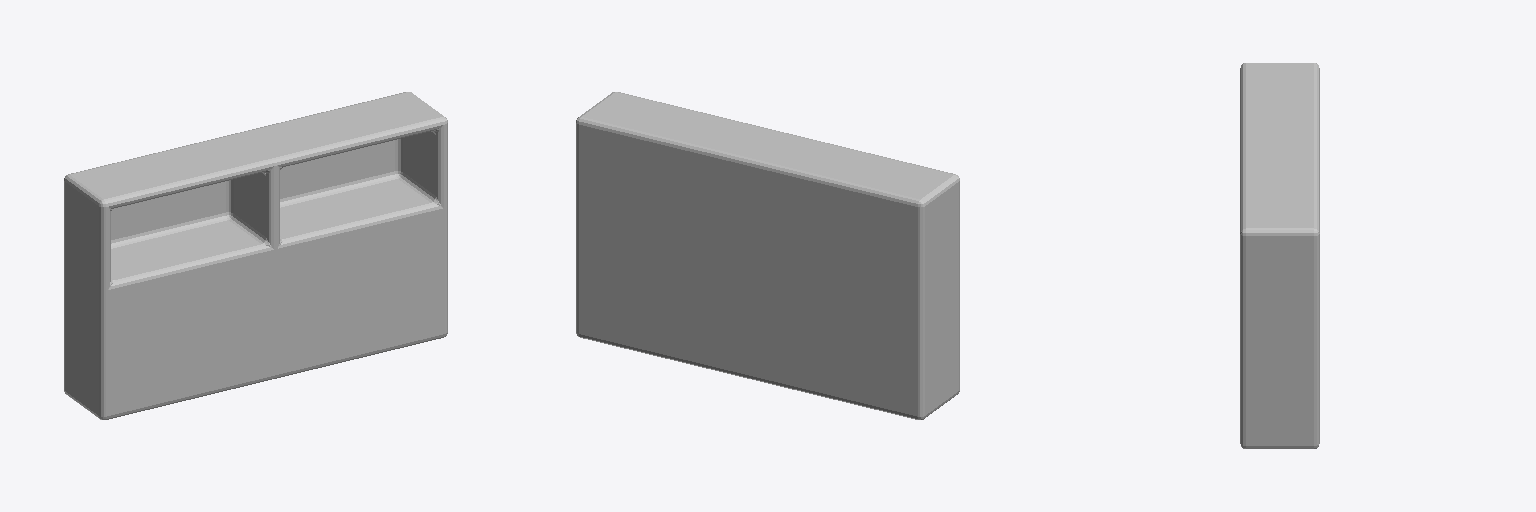
Rendered from cabecera.obj.
3 views of the same model, side by side, from view 1: azimuth 30°, elevation 25°; view 2: azimuth 150°, elevation 25°; view 3: azimuth 270°, elevation 25° (orthographic).
Parts seen in each view (by area): view 1: mueble_cama.002; view 2: mueble_cama.002; view 3: mueble_cama.002.
Boxes of the visible parts, x1=… form: mueble_cama.002: x1=64, y1=92, x2=447, y2=419; mueble_cama.002: x1=576, y1=92, x2=959, y2=419; mueble_cama.002: x1=1240, y1=63, x2=1319, y2=448.
Size of the model in its own units: 1.15 by 0.693 by 0.2263.